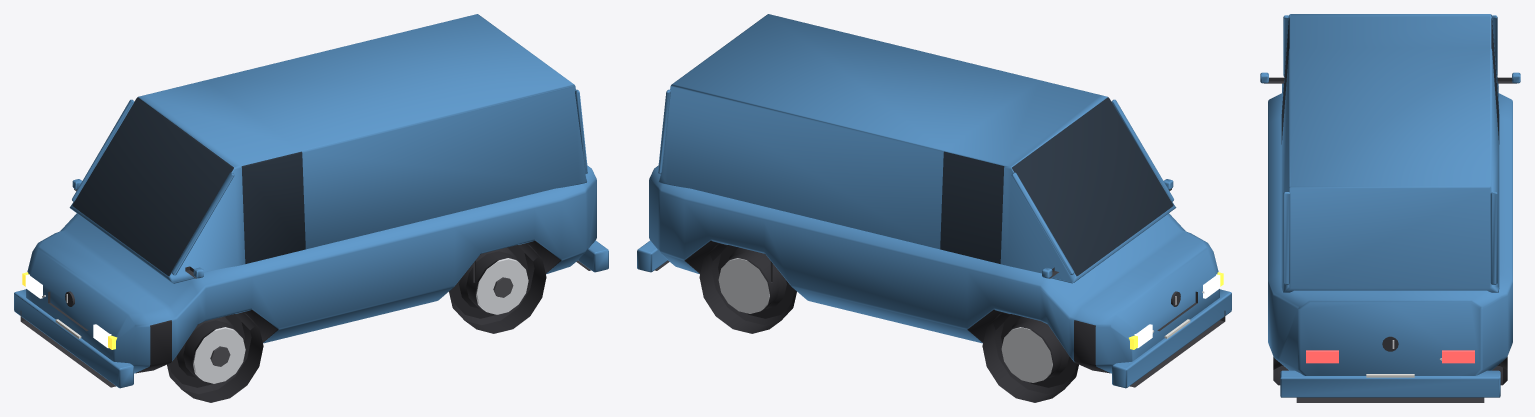
Rendered from mv_transporter.glb.
3 renders of one model, left to right at view 1: azimuth 30°, elevation 25°; view 2: azimuth 150°, elevation 25°; view 3: azimuth 270°, elevation 25°, orthographic. The views are drawn at different scales.
Bounding box in the file's own units: 1.9 × 0.8292 × 0.8389.
